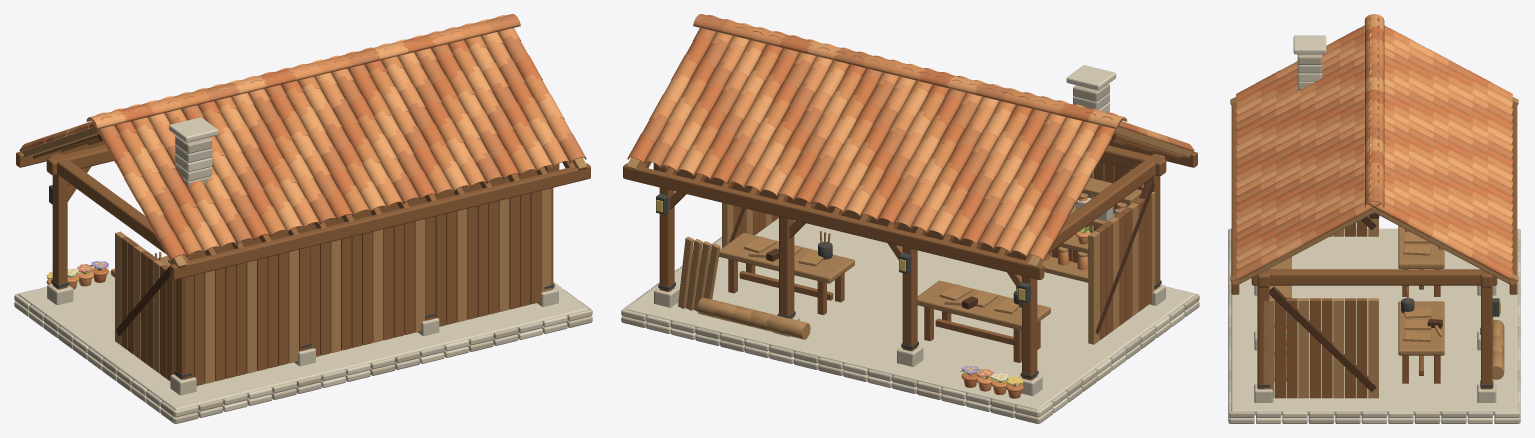
Rendered from workshop.fbx.
The picture shows the model from 3 angles, left to right: view 1: azimuth 30°, elevation 25°; view 2: azimuth 150°, elevation 25°; view 3: azimuth 270°, elevation 25°; orthographic projection. The views are drawn at different scales.
Parts seen in each view (by area): view 1: workshop • Timber • warm oak, workshop • Limestone • course 2, workshop • Timber • cut end, workshop • Terracotta • tile 2, workshop • Terracotta • tile 4, workshop • Terracotta • tile 1, workshop • Terracotta • tile 0, workshop • Terracotta • tile 3, workshop • Limestone • course 1, workshop • Limestone • course 0, workshop • Limestone • course 3, workshop • Timber • deep joints; view 2: workshop • Limestone • course 2, workshop • Timber • warm oak, workshop • Terracotta • tile 2, workshop • Terracotta • tile 1, workshop • Terracotta • tile 3, workshop • Terracotta • tile 0, workshop • Terracotta • tile 4, workshop • Timber • cut end, workshop • Timber • tabletop, workshop • Limestone • course 1, workshop • Limestone • course 0, workshop • Limestone • course 3 (+2 smaller); view 3: workshop • Limestone • course 2, workshop • Timber • warm oak, workshop • Terracotta • tile 0, workshop • Terracotta • tile 3, workshop • Terracotta • tile 2, workshop • Terracotta • tile 1, workshop • Terracotta • tile 4, workshop • Timber • cut end, workshop • Timber • tabletop, workshop • Limestone • course 1, workshop • Limestone • course 3, workshop • Limestone • course 0 (+2 smaller).
Part boxes in pixels (bbox=[...]): workshop • Timber • warm oak: bbox=[16, 134, 590, 385]; workshop • Limestone • course 2: bbox=[14, 117, 588, 412]; workshop • Timber • cut end: bbox=[19, 127, 587, 383]; workshop • Terracotta • tile 2: bbox=[53, 15, 571, 286]; workshop • Terracotta • tile 4: bbox=[67, 19, 564, 252]; workshop • Terracotta • tile 1: bbox=[20, 21, 549, 289]; workshop • Terracotta • tile 0: bbox=[45, 14, 586, 284]; workshop • Terracotta • tile 3: bbox=[31, 27, 542, 282]; workshop • Limestone • course 1: bbox=[14, 164, 592, 417]; workshop • Limestone • course 0: bbox=[15, 135, 592, 423]; workshop • Limestone • course 3: bbox=[29, 145, 592, 423]; workshop • Timber • deep joints: bbox=[98, 134, 171, 336]; workshop • Limestone • course 2: bbox=[621, 65, 1195, 416]; workshop • Timber • warm oak: bbox=[623, 134, 1197, 380]; workshop • Terracotta • tile 2: bbox=[649, 18, 1168, 391]; workshop • Terracotta • tile 1: bbox=[671, 21, 1146, 394]; workshop • Terracotta • tile 3: bbox=[627, 31, 1193, 387]; workshop • Terracotta • tile 0: bbox=[642, 14, 1182, 398]; workshop • Terracotta • tile 4: bbox=[664, 22, 1160, 256]; workshop • Timber • cut end: bbox=[626, 127, 1194, 344]; workshop • Timber • tabletop: bbox=[719, 178, 1141, 330]; workshop • Limestone • course 1: bbox=[621, 111, 1198, 423]; workshop • Limestone • course 0: bbox=[621, 83, 1199, 423]; workshop • Limestone • course 3: bbox=[636, 93, 1199, 417]; workshop • Limestone • course 2: bbox=[1228, 35, 1520, 423]; workshop • Timber • warm oak: bbox=[1231, 104, 1517, 398]; workshop • Terracotta • tile 0: bbox=[1236, 17, 1512, 369]; workshop • Terracotta • tile 3: bbox=[1236, 17, 1512, 279]; workshop • Terracotta • tile 2: bbox=[1236, 38, 1512, 268]; workshop • Terracotta • tile 1: bbox=[1236, 25, 1512, 333]; workshop • Terracotta • tile 4: bbox=[1236, 14, 1512, 261]; workshop • Timber • cut end: bbox=[1230, 97, 1518, 398]; workshop • Timber • tabletop: bbox=[1269, 225, 1444, 381]; workshop • Limestone • course 1: bbox=[1228, 80, 1520, 423]; workshop • Limestone • course 3: bbox=[1228, 64, 1520, 423]; workshop • Limestone • course 0: bbox=[1228, 54, 1520, 423].
Bounding box in the file's own units: 10.63 × 5.98 × 7.02.
